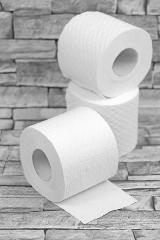paper: (20, 107, 119, 204), (57, 11, 153, 99), (65, 81, 139, 157), (51, 180, 138, 224)
